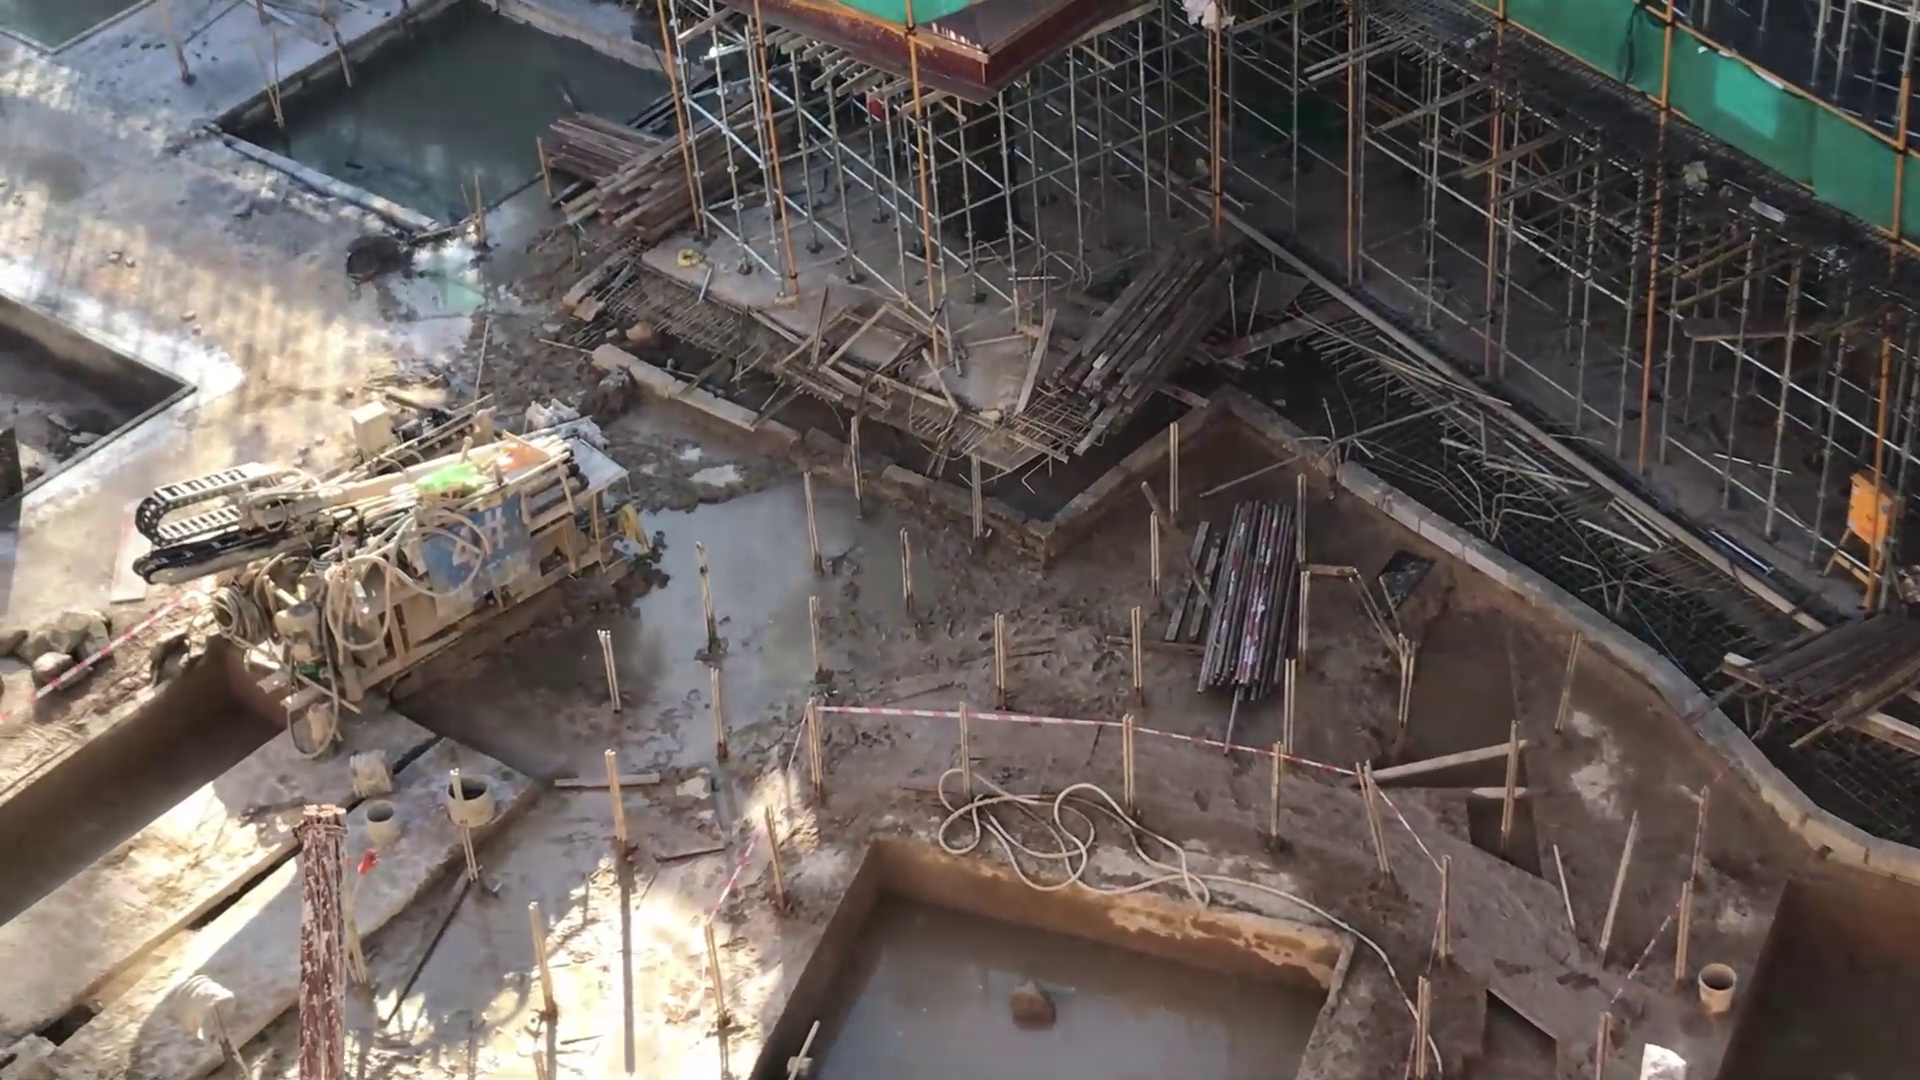ebox: (1808, 436, 1920, 607)
